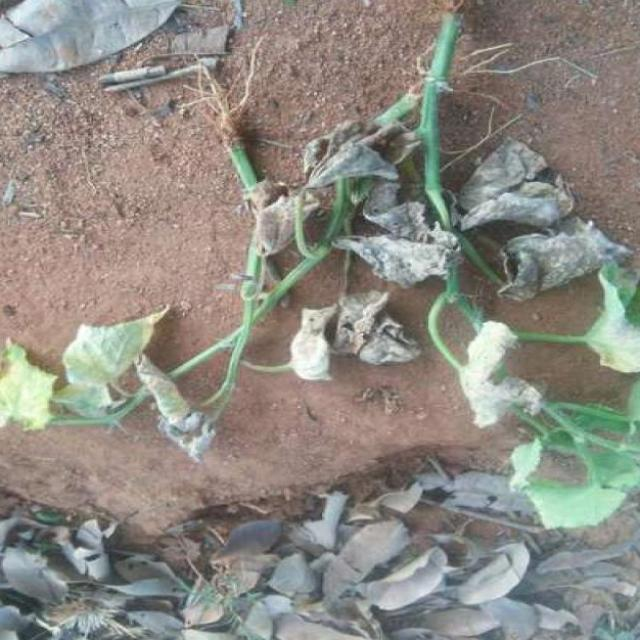Aphids: (301, 124, 451, 294), (495, 208, 628, 311), (280, 283, 404, 388), (455, 131, 567, 229), (453, 317, 535, 436), (137, 345, 212, 464), (252, 185, 320, 259), (0, 341, 56, 430), (0, 334, 51, 429)
